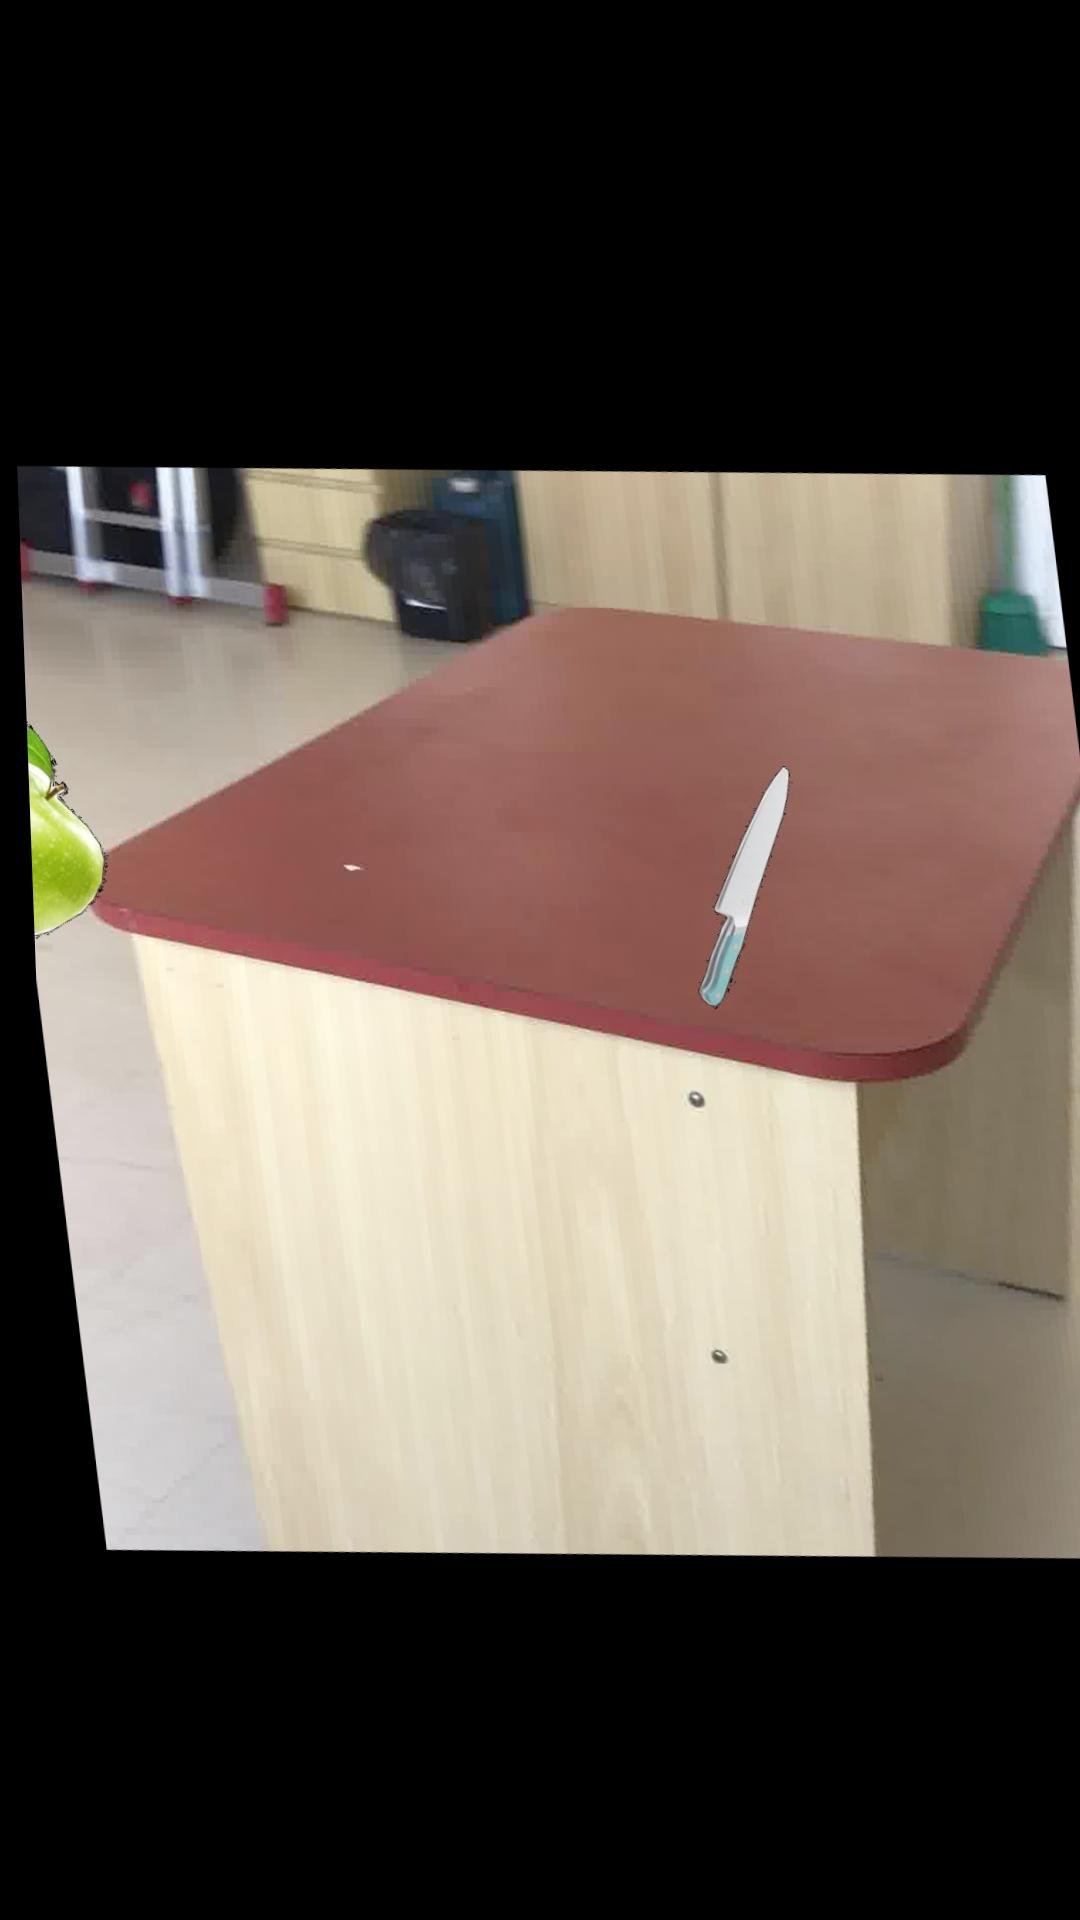green apple: (21, 727, 96, 938)
knife: (688, 750, 782, 996)
